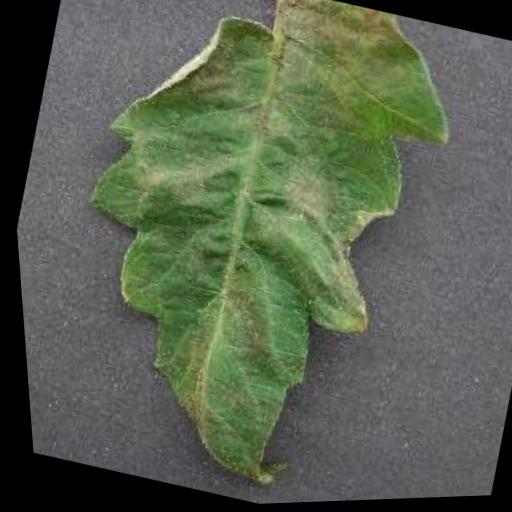Late Blight: (5, 0, 498, 512)
